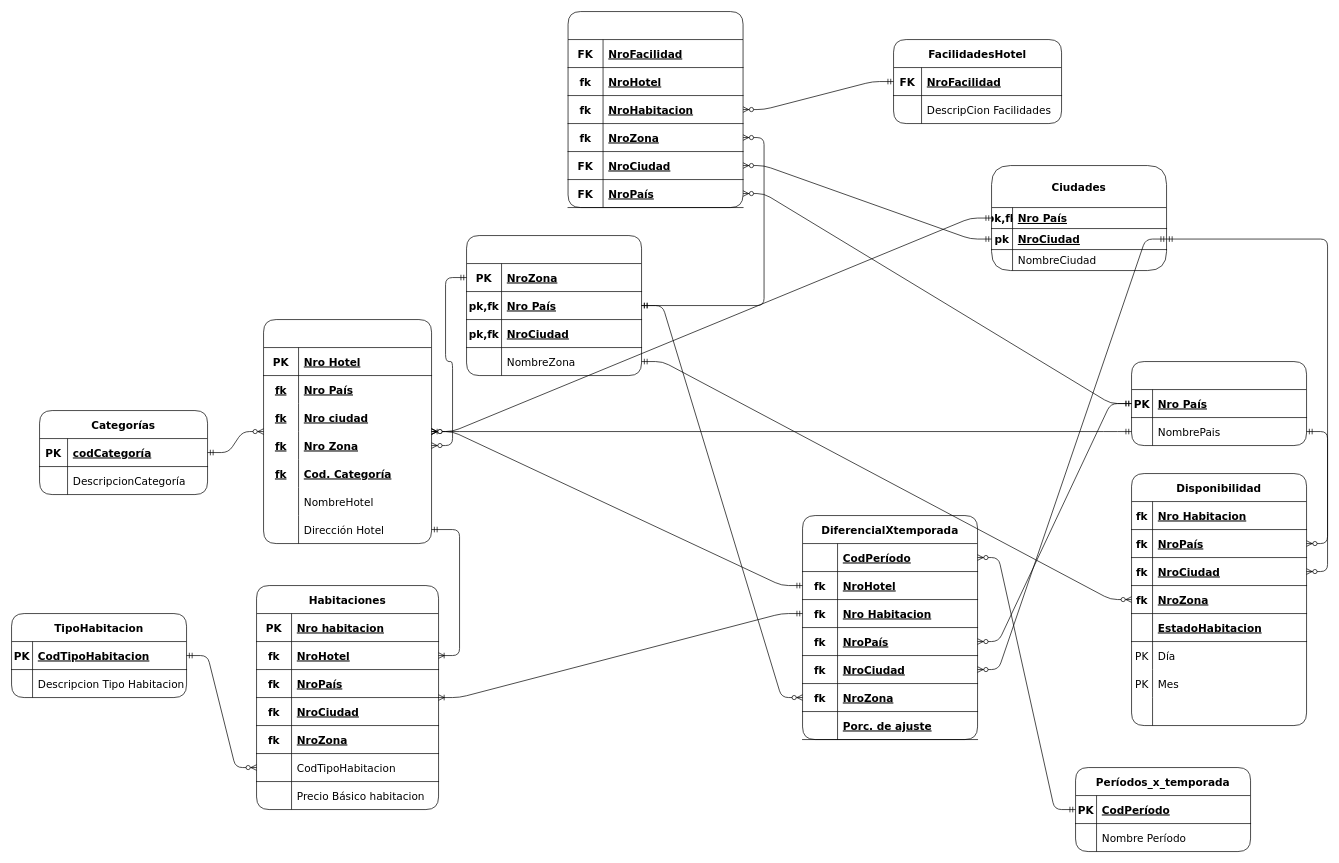
The diagram is 1339 pixels wide and 863 high, and some of its shapes have lost their labels. Each missing label, with the box of its shape:
Facilidades_X_Hotel: (567, 11, 743, 208)
Hoteles: (263, 319, 432, 544)
Países: (1131, 361, 1307, 446)
Zonas: (466, 235, 642, 376)
